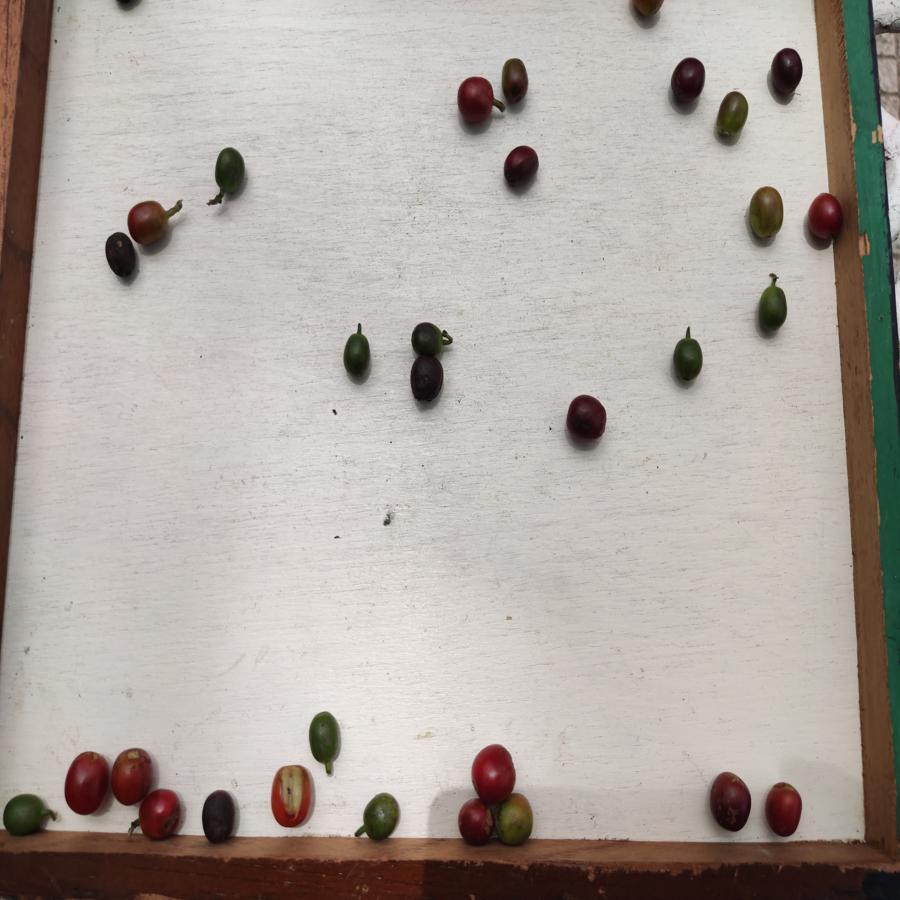Inmaduro: (2, 792, 49, 835), (308, 710, 341, 765), (364, 791, 400, 841), (406, 320, 452, 358), (214, 147, 247, 197), (342, 329, 375, 379), (757, 285, 790, 332), (671, 335, 703, 383)
Maduro: (63, 749, 108, 816), (470, 742, 518, 802), (268, 763, 312, 828), (763, 779, 806, 837), (137, 789, 183, 840), (112, 746, 151, 806)
Pinton: (748, 186, 788, 246), (128, 200, 172, 248), (495, 793, 533, 847), (717, 89, 748, 139), (499, 58, 532, 103)
Sobremaduro: (711, 768, 753, 834), (565, 394, 611, 441), (198, 788, 238, 841), (454, 76, 497, 123), (407, 357, 449, 403), (808, 192, 845, 244), (505, 143, 539, 194), (456, 799, 494, 844), (771, 46, 804, 97), (671, 59, 706, 104), (103, 232, 137, 278)
